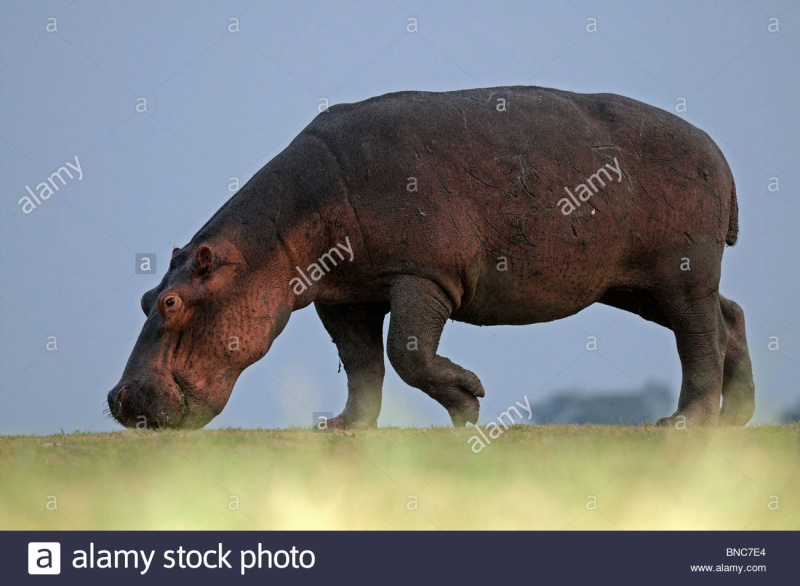hipopotamo: (107, 79, 766, 433)
